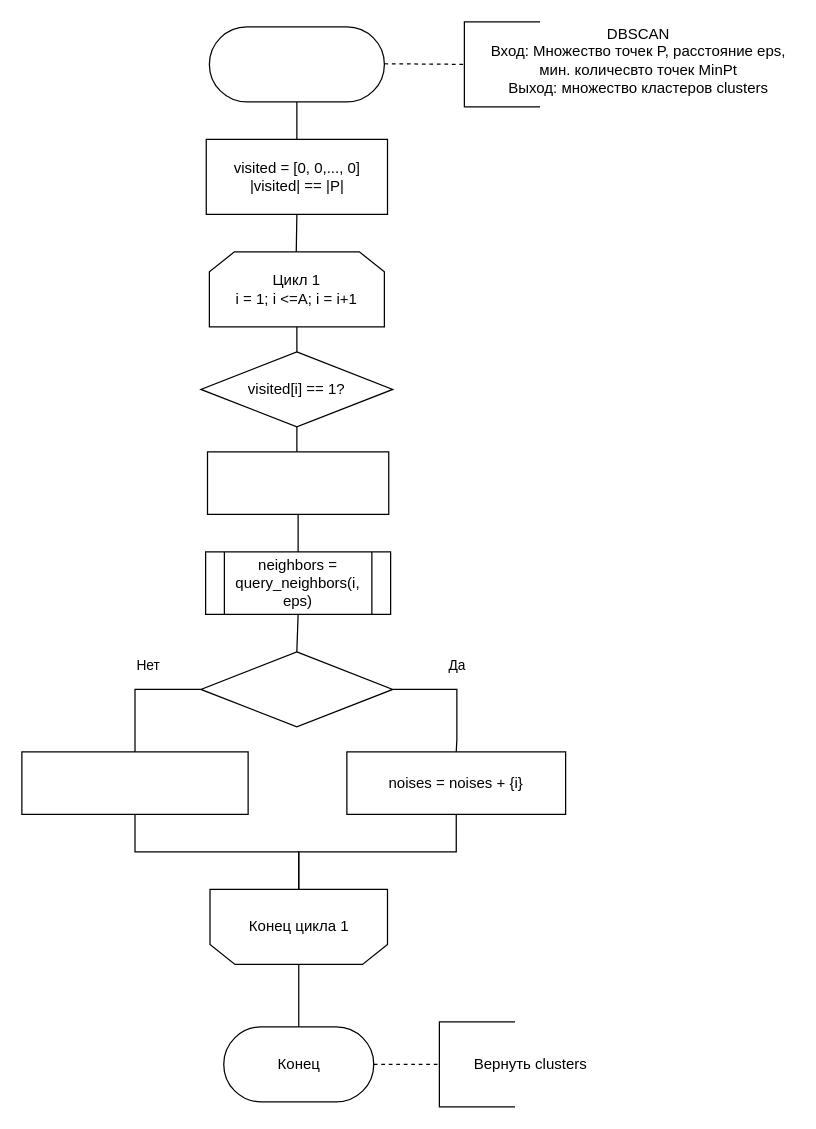
The diagram is 816 pixels wide and 1129 high, and some of its shapes have lost their labels. Here are the shapes that lost their labels. From the top down, the box of each, then its label:
(208, 26, 384, 102): Начало
(206, 451, 389, 514): visited[i] = 1
(200, 651, 393, 727): | neighbors | < MinPt
(21, 751, 248, 814): clusters = EXPANDCLUSTER(clusters, i, neighbors);
